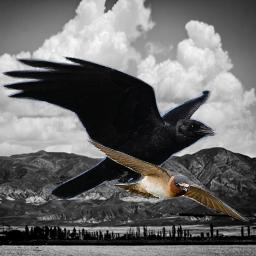Crow: (0, 54, 219, 200)
Swallow: (83, 136, 250, 222)
